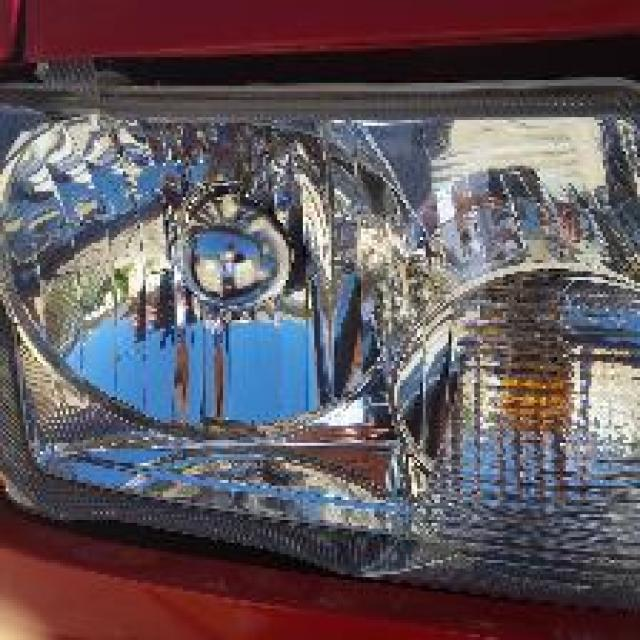damaged: (19, 122, 452, 448)
